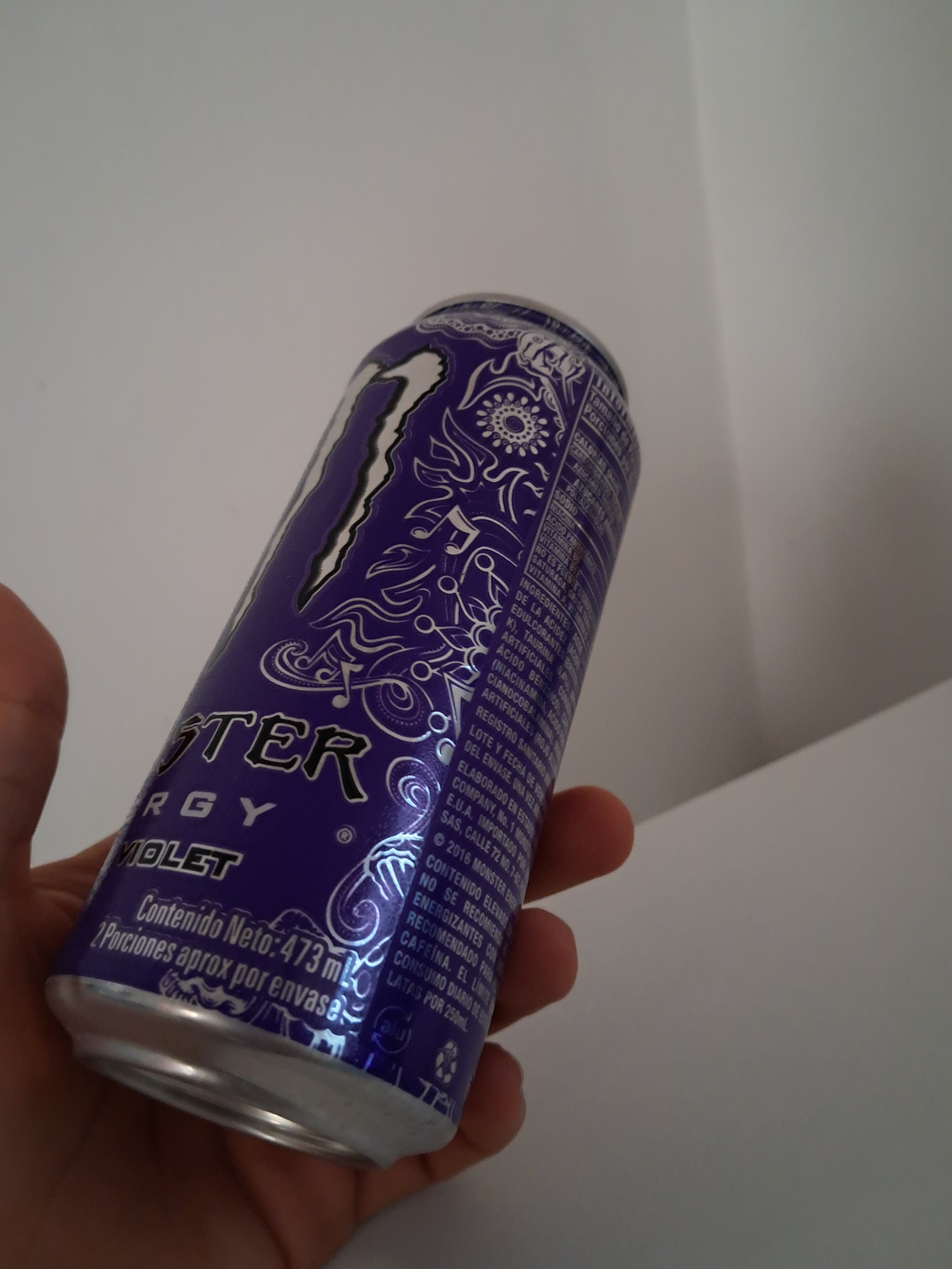energy_drink: (46, 296, 639, 1167)
